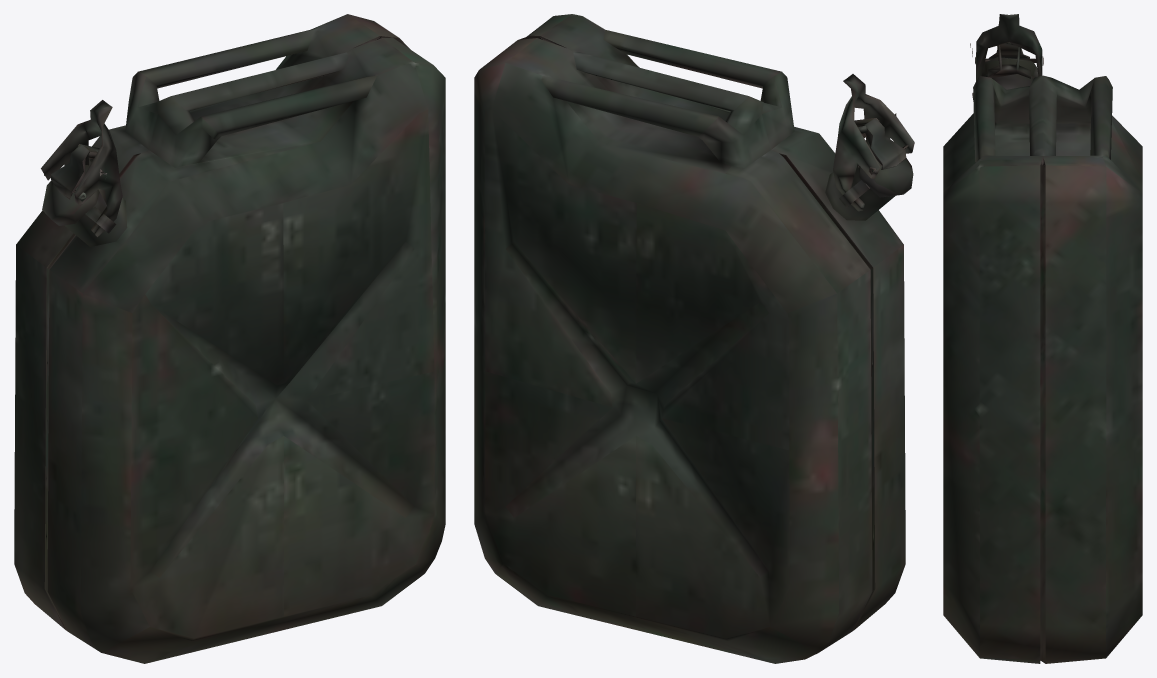
Rendered from metal_jerrycan_green.glb.
3 renders of one model, left to right at view 1: azimuth 30°, elevation 25°; view 2: azimuth 150°, elevation 25°; view 3: azimuth 270°, elevation 25°, orthographic. The views are drawn at different scales.
Visible parts, largest first — view 1: metal_jerrycan_green_pin; view 2: metal_jerrycan_green_pin; view 3: metal_jerrycan_green_pin.
Part boxes in pixels (x1,y1,x2,y2): metal_jerrycan_green_pin: [14, 14, 445, 663]; metal_jerrycan_green_pin: [474, 14, 914, 663]; metal_jerrycan_green_pin: [943, 14, 1142, 663].
Size of the model in its own units: 0.36 by 0.4982 by 0.1709.
Materials: 1 (1 with a texture image).
